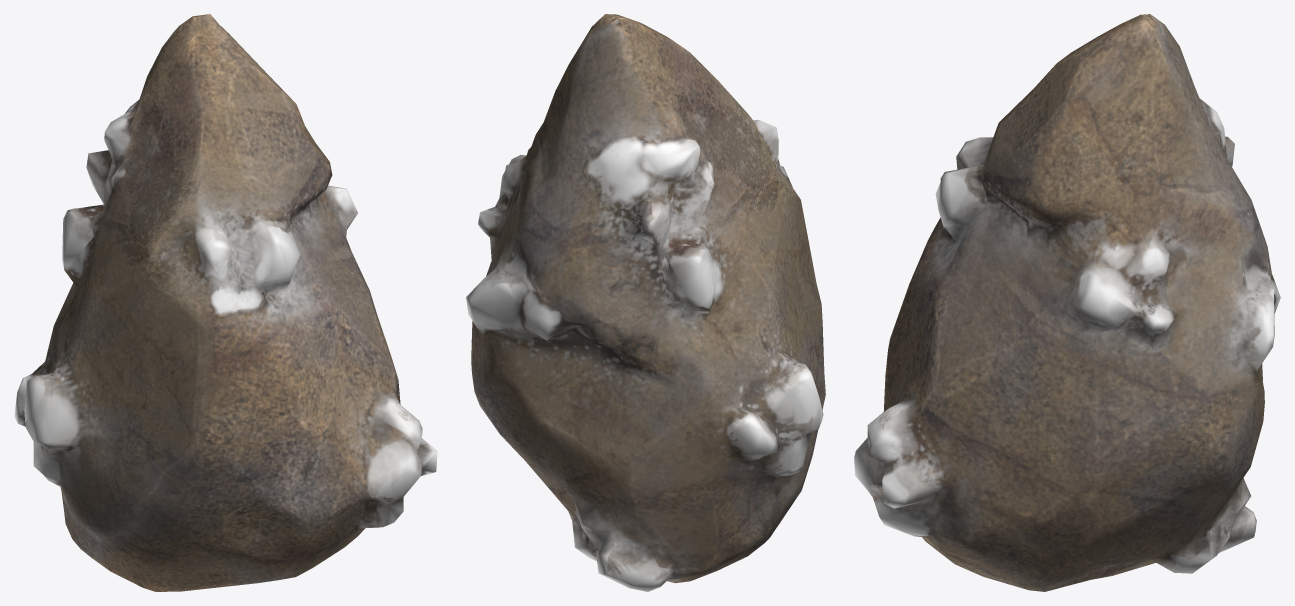
The model's file is SM_MetalNode_3a.fbx.
The picture shows the model from 3 angles, left to right: view 1: azimuth 30°, elevation 25°; view 2: azimuth 150°, elevation 25°; view 3: azimuth 270°, elevation 25°; orthographic projection. The views are drawn at different scales.
Visible parts, largest first — view 1: SM_MetalNode_3a_LOD0; view 2: SM_MetalNode_3a_LOD0; view 3: SM_MetalNode_3a_LOD0.
Part boxes in pixels (x1,y1,x2,y2): SM_MetalNode_3a_LOD0: [14, 14, 437, 591]; SM_MetalNode_3a_LOD0: [466, 14, 825, 591]; SM_MetalNode_3a_LOD0: [854, 14, 1280, 591].
Size of what is drawn, in the model's own units: 0.8617 by 1.39 by 0.9252.
